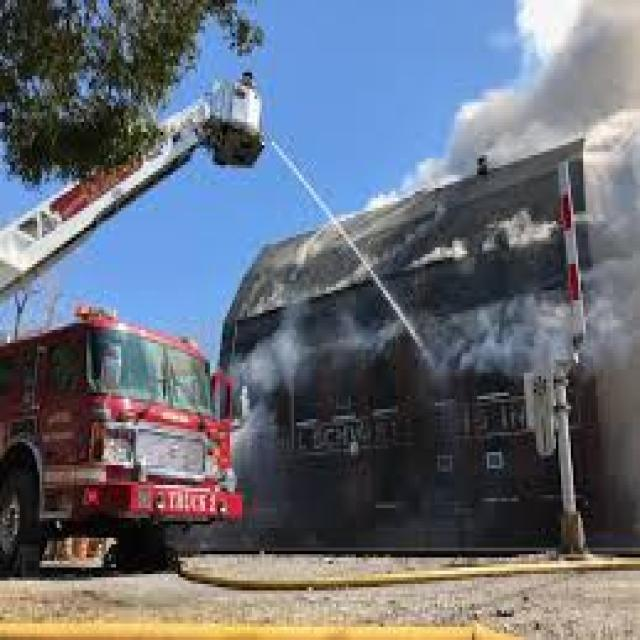Smoke: (234, 0, 640, 415)
